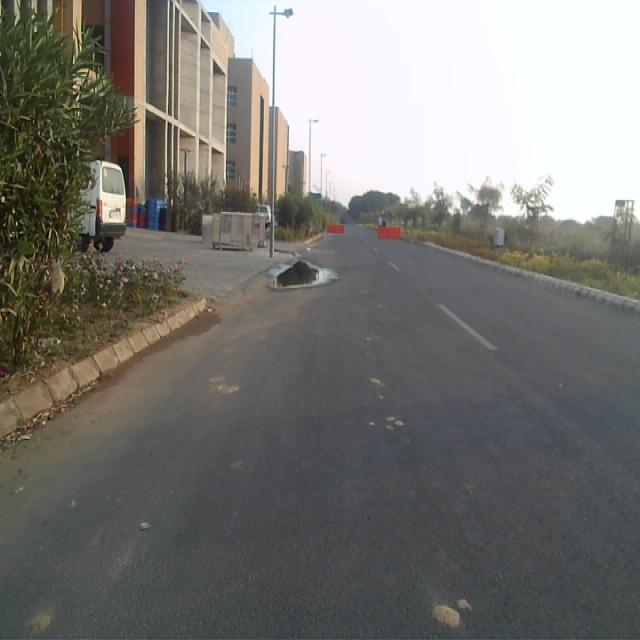lane: (0, 238, 640, 640)
